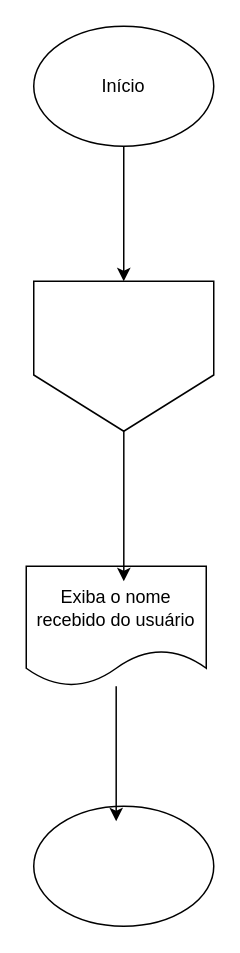
Image size: 240x953. Some labels were removed from this diagram. Here are the shapes that lost their labels. From the top down, the centre of each, then its label:
At point (123, 355): "Recebe o nome do usuário pelo teclado".
At point (123, 865): "Fim".
